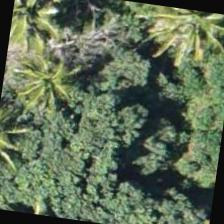Kelapa_Sawit: (3, 27, 105, 130), (7, 0, 78, 66), (152, 5, 223, 64)
